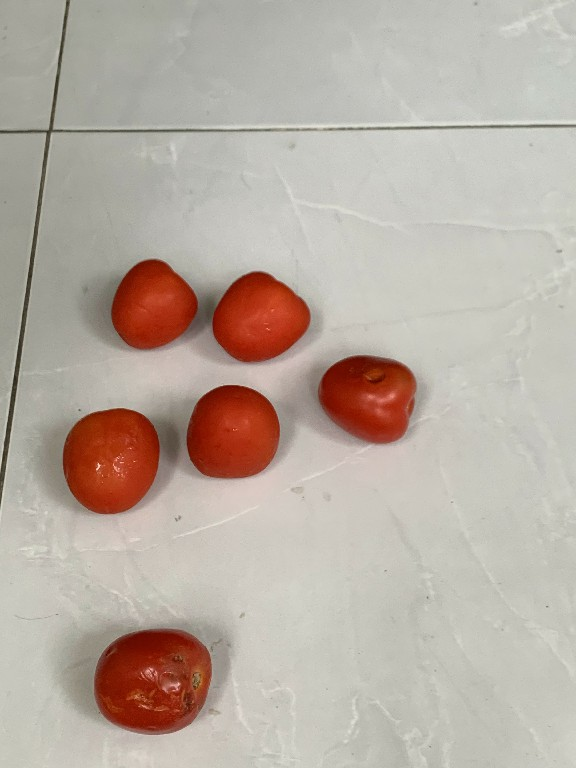NG: (90, 621, 210, 739), (312, 348, 417, 448)
OK: (56, 401, 166, 518), (207, 264, 312, 369), (101, 250, 201, 355), (180, 382, 280, 483)
